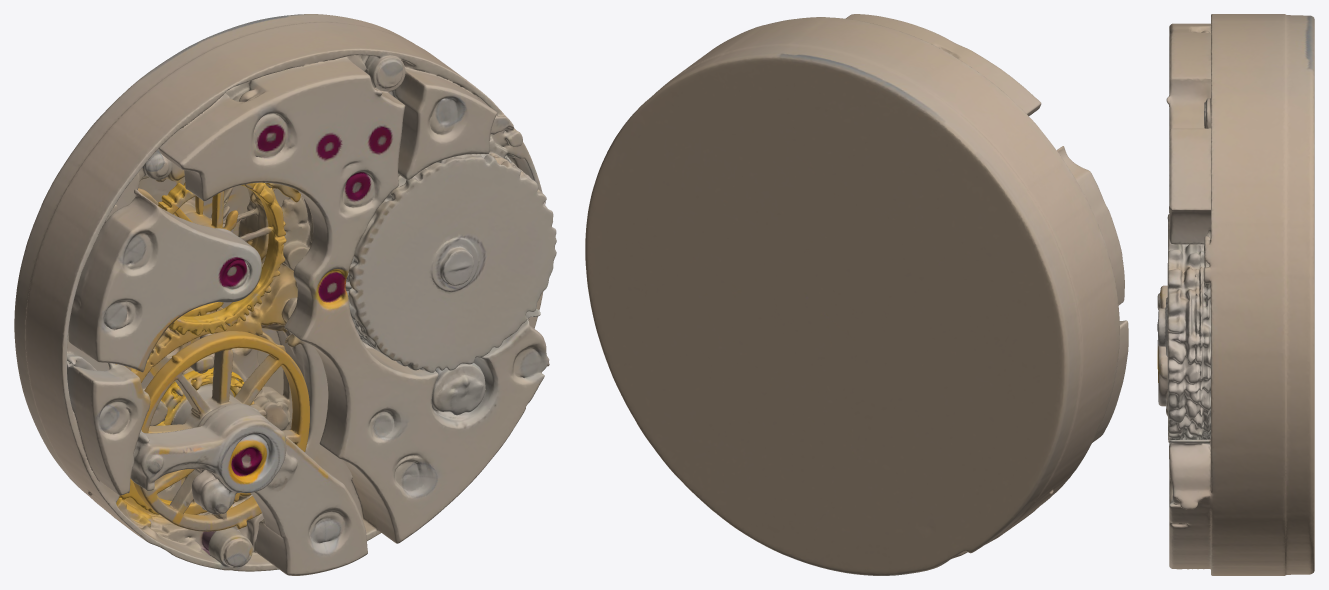
The model's file is mouvement-tripo.glb.
3 views of the same model, side by side, from view 1: azimuth 30°, elevation 25°; view 2: azimuth 150°, elevation 25°; view 3: azimuth 270°, elevation 25° (orthographic).
Visible parts, largest first — view 1: tripo_node_7db26f4e-c556-4a7b-8504-d9730d21938a; view 2: tripo_node_7db26f4e-c556-4a7b-8504-d9730d21938a; view 3: tripo_node_7db26f4e-c556-4a7b-8504-d9730d21938a.
Part boxes in pixels (x1=…): tripo_node_7db26f4e-c556-4a7b-8504-d9730d21938a: x1=14, y1=14, x2=556, y2=575; tripo_node_7db26f4e-c556-4a7b-8504-d9730d21938a: x1=585, y1=14, x2=1128, y2=575; tripo_node_7db26f4e-c556-4a7b-8504-d9730d21938a: x1=1157, y1=14, x2=1314, y2=575.
Bounding box in the file's own units: 1 × 0.9998 × 0.2804.
1 material, 1 textured.
